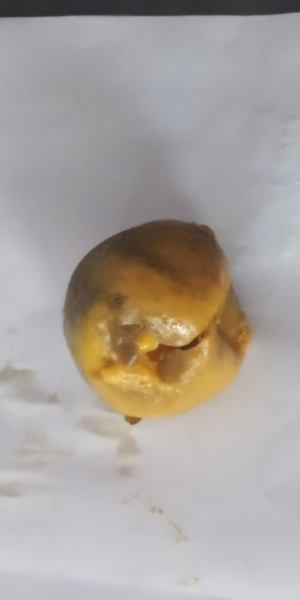BAD: (59, 220, 250, 427)
